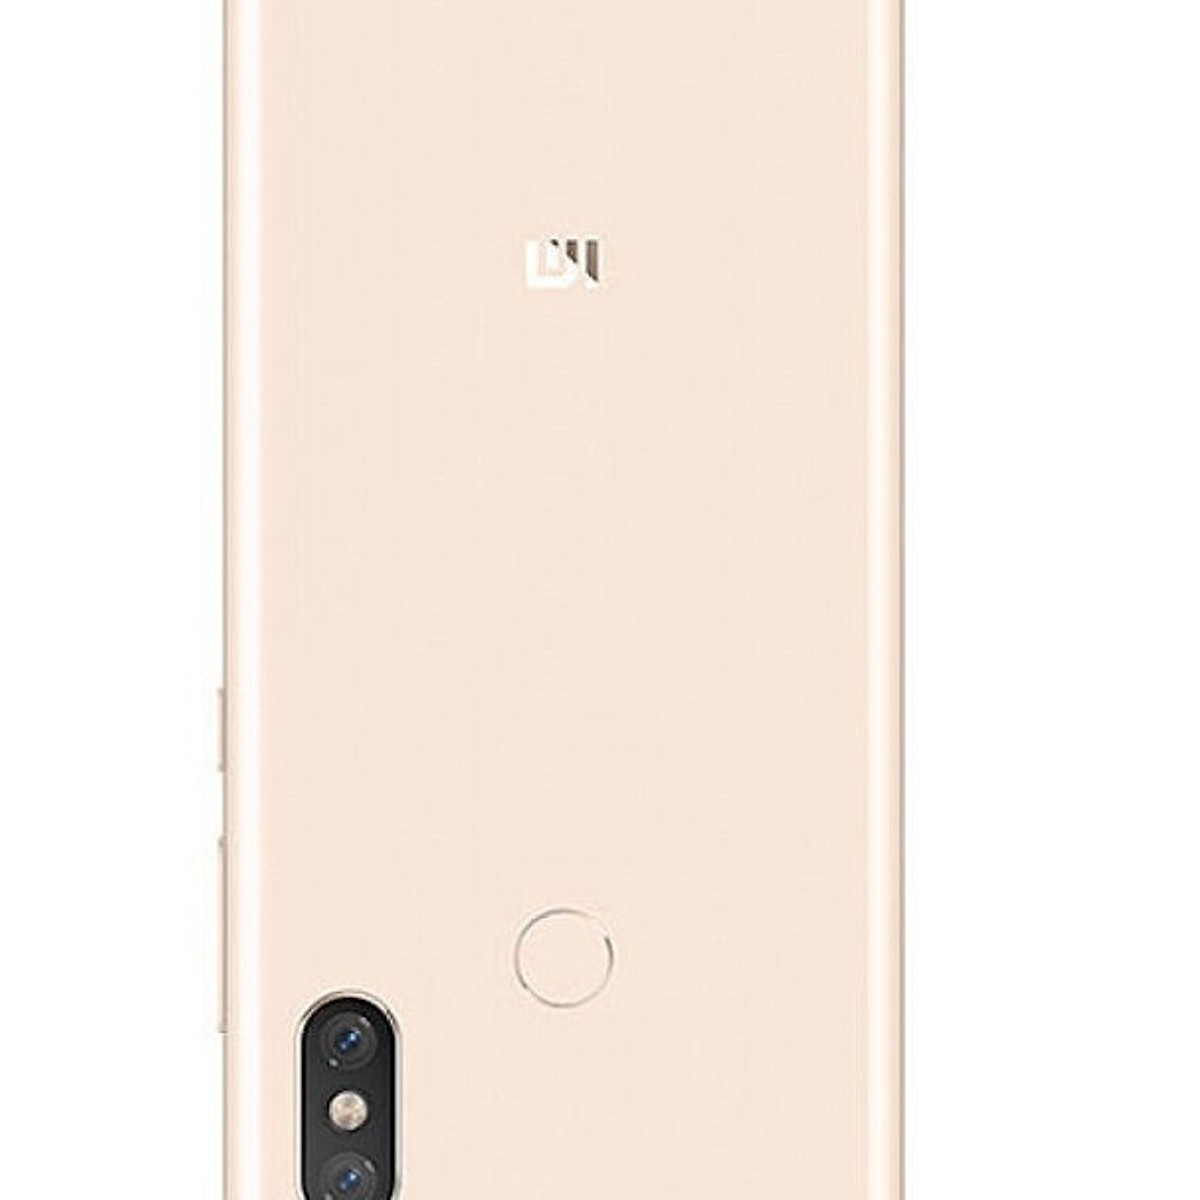Xiaomi: (351, 152, 738, 395)
